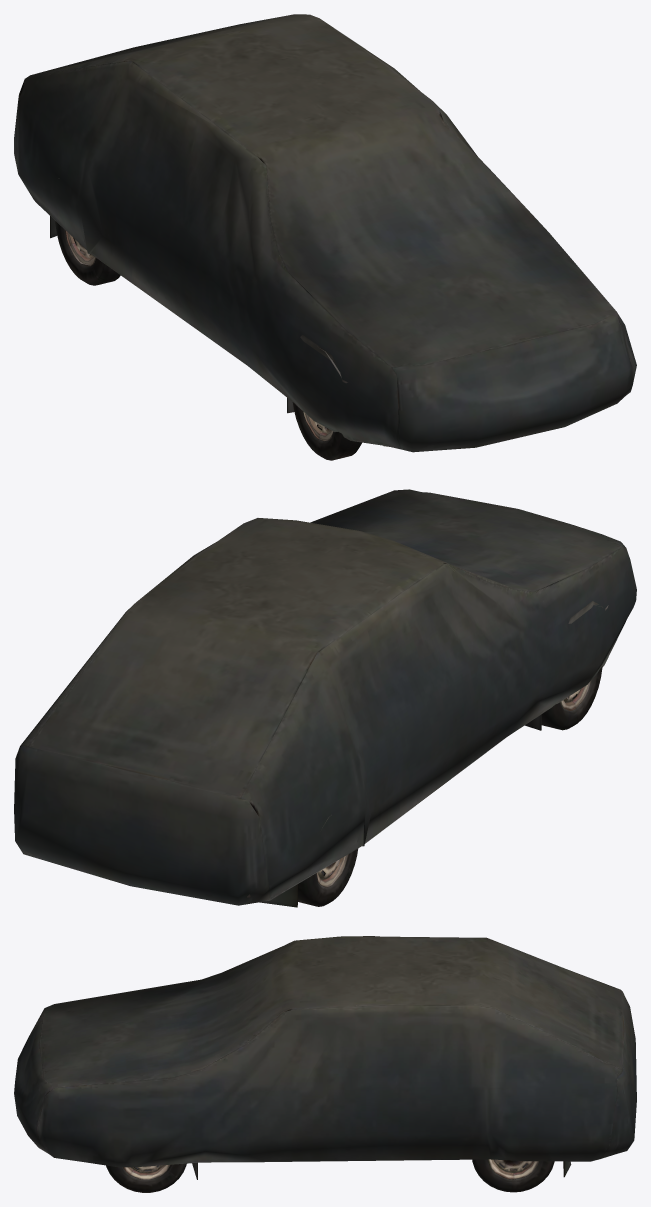
Rendered from covered_car.glb.
3 renders of one model, top to bottom at view 1: azimuth 30°, elevation 25°; view 2: azimuth 150°, elevation 25°; view 3: azimuth 270°, elevation 25°, orthographic. The views are drawn at different scales.
Visible parts, largest first — view 1: covered_car, covered_car_wheel_03, covered_car_wheel_02; view 2: covered_car, covered_car_wheel_03, covered_car_wheel_02; view 3: covered_car, covered_car_wheel_04, covered_car_wheel_01.
Part boxes in pixels (<box>): covered_car: <box>14,14,636,452</box>; covered_car_wheel_03: <box>55,221,120,285</box>; covered_car_wheel_02: <box>292,402,361,460</box>; covered_car: <box>14,489,636,907</box>; covered_car_wheel_03: <box>298,848,358,906</box>; covered_car_wheel_02: <box>541,666,602,730</box>; covered_car: <box>14,936,636,1179</box>; covered_car_wheel_04: <box>472,1159,554,1192</box>; covered_car_wheel_01: <box>106,1163,186,1192</box>.
Bounding box in the file's own units: 1.79 × 1.41 × 4.38.
Materials: 1 (1 with a texture image).
